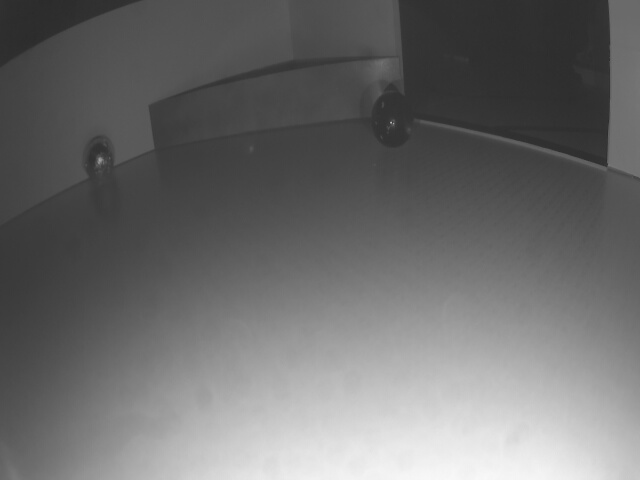Dead: (370, 94, 414, 147)
Green: (147, 58, 400, 154)
Live: (79, 139, 117, 180)
